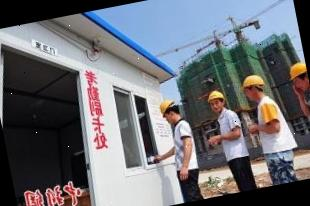helmet: (286, 60, 308, 83), (240, 72, 265, 88), (156, 98, 176, 118), (207, 88, 223, 100)
no_wear: (254, 94, 294, 154), (166, 118, 200, 174), (215, 107, 248, 163)
